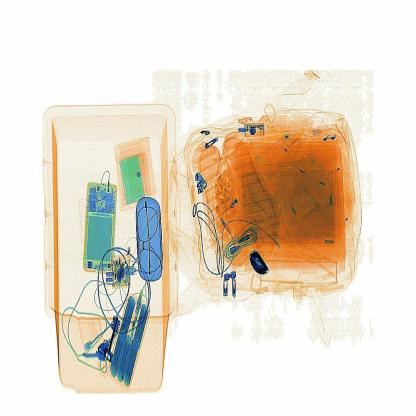scissors: (240, 244, 286, 286)
